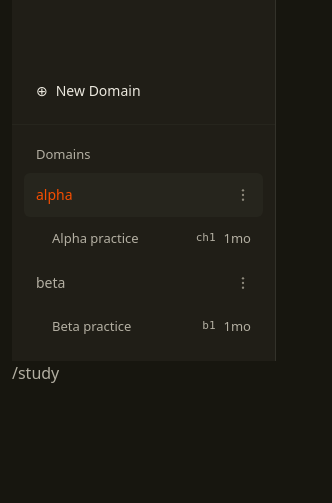
Scenario: Sidebar domain menu › surfaces rename errors without clearing the form
Expected: the link "alpha" is shown, x1=36 y1=185 x2=73 y2=204
Click the button named "Domain actions for alpha" at (243,194), box x1=227 y1=178 x2=259 y2=210
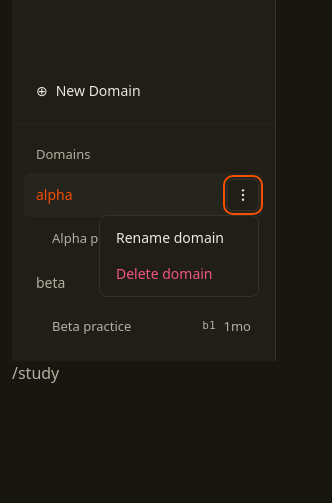
Click the menu item "Rename domain" at (179,238), box x1=104 y1=220 x2=254 y2=256
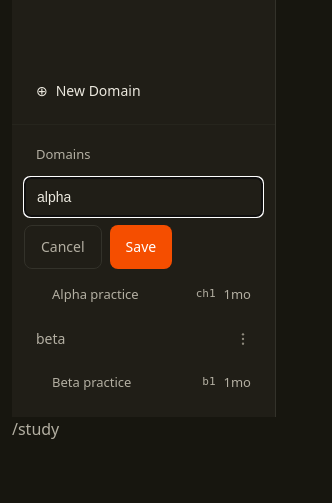
Replace the text in the field named "Rename domain alpha" with "beta" at (144,196), box x1=24 y1=176 x2=263 y2=216
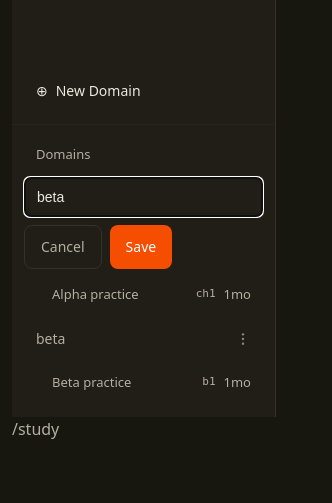
Click the button "Save" at (141,246), box x1=110 y1=224 x2=172 y2=268
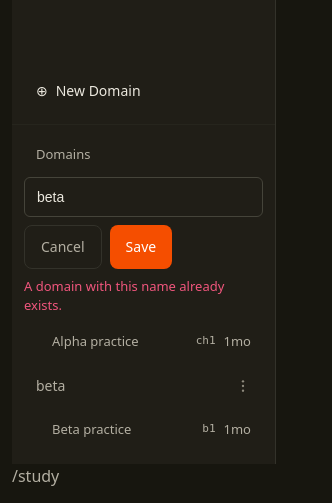
Expected: the button "Save" is shown, x1=110 y1=224 x2=172 y2=268
Expected: the text "A domain with this name already exists." is shown, x1=24 y1=276 x2=224 y2=314
